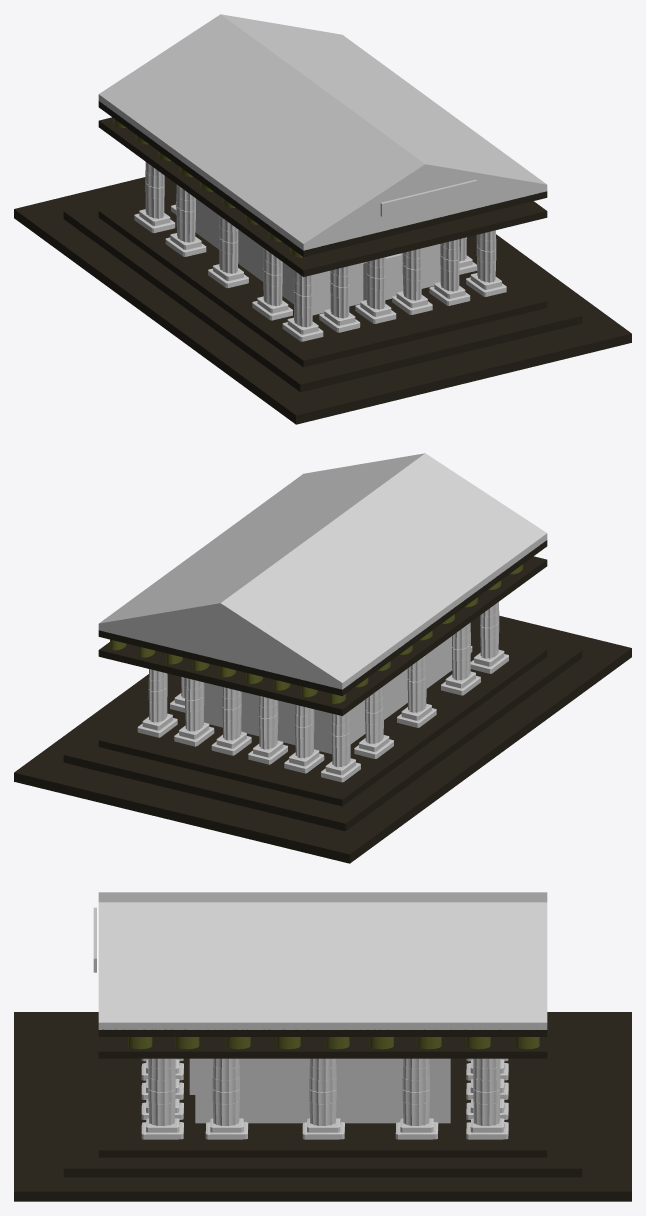
The model's file is Museum.fbx.
3 renders of one model, top to bottom at view 1: azimuth 30°, elevation 25°; view 2: azimuth 150°, elevation 25°; view 3: azimuth 270°, elevation 25°, orthographic. The views are drawn at different scales.
Visible parts, largest first — view 1: Museum; view 2: Museum; view 3: Museum.
Part boxes in pixels (<box>): Museum: <box>14,14,631,424</box>; Museum: <box>14,453,631,863</box>; Museum: <box>14,892,631,1201</box>.
Bounding box in the file's own units: 29.2 × 15.89 × 42.49.
